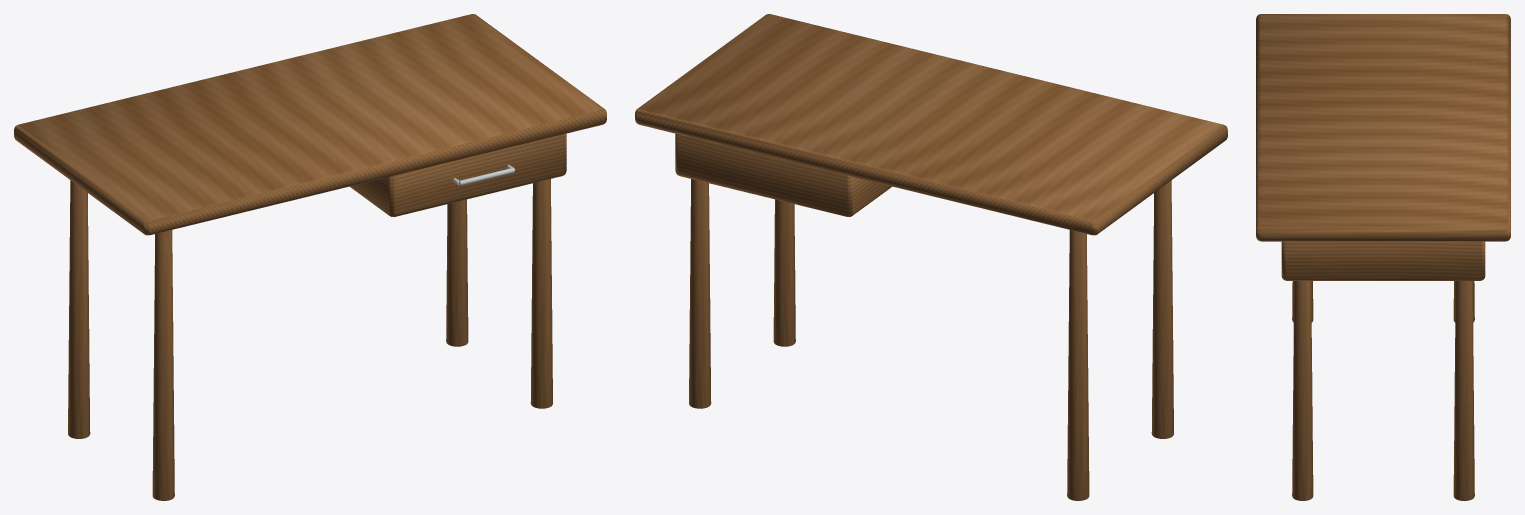
Rendered from desk.glb.
3 views of the same model, side by side, from view 1: azimuth 30°, elevation 25°; view 2: azimuth 150°, elevation 25°; view 3: azimuth 270°, elevation 25° (orthographic). The views are drawn at different scales.
Visible parts, largest first — view 1: desk-mesh; view 2: desk-mesh; view 3: desk-mesh.
Part boxes in pixels (x1,y1,x2,y2): desk-mesh: [14, 14, 606, 500]; desk-mesh: [635, 14, 1227, 500]; desk-mesh: [1256, 14, 1510, 500].
Size of the model in its own units: 1.2 by 0.75 by 0.6.
Materials: 2 (1 with a texture image).
